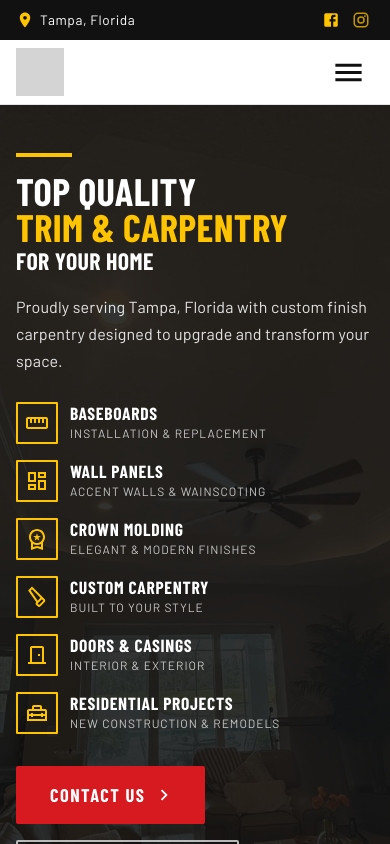
App navigation › opens the mobile drawer menu
# The toggle is hidden by CSS at the default (desktop) jsdom width.
Step 1. Click the button named "Open menu" → (348, 72), box x1=323 y1=46 x2=374 y2=98
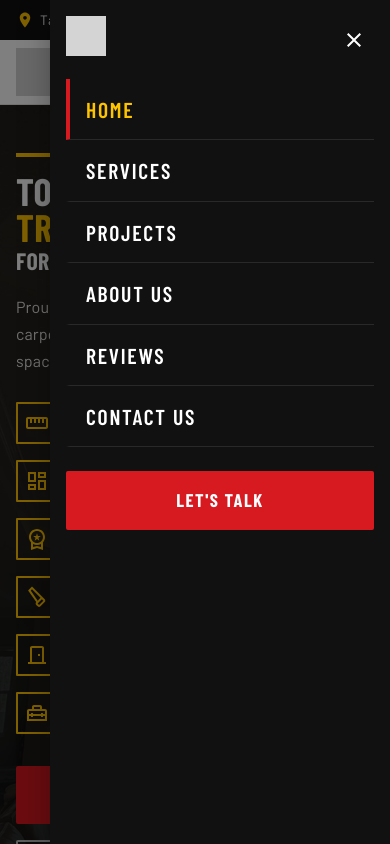
Expected: the link "Projects" is shown, x1=66 y1=202 x2=374 y2=263
